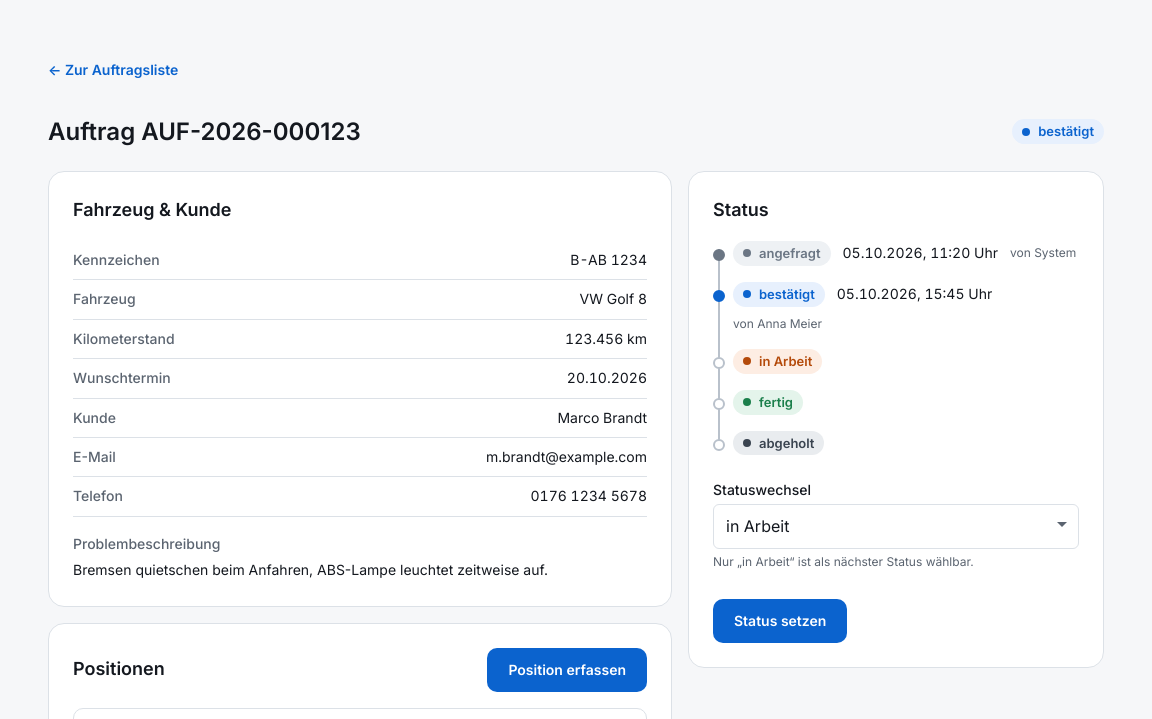
WorkshopOrderDetail › shows the API message when a status change is rejected with 409
Click the button "Status setzen".
click(780, 621)  # box [713,599,847,643]
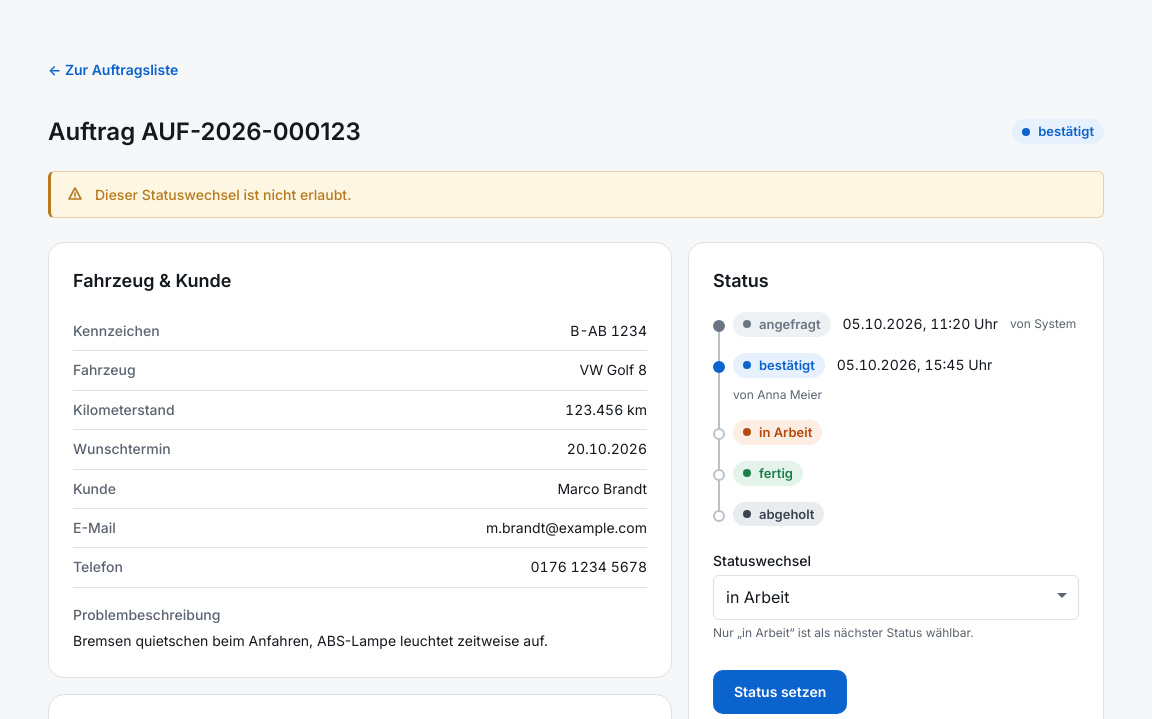
Expected: the text "Dieser Statuswechsel ist nicht erlaubt." is shown, [95,184,351,205]
